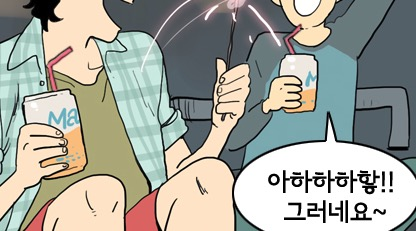beer: (19, 84, 91, 183), (274, 49, 322, 115)
can: (15, 85, 89, 183), (275, 48, 320, 115)
